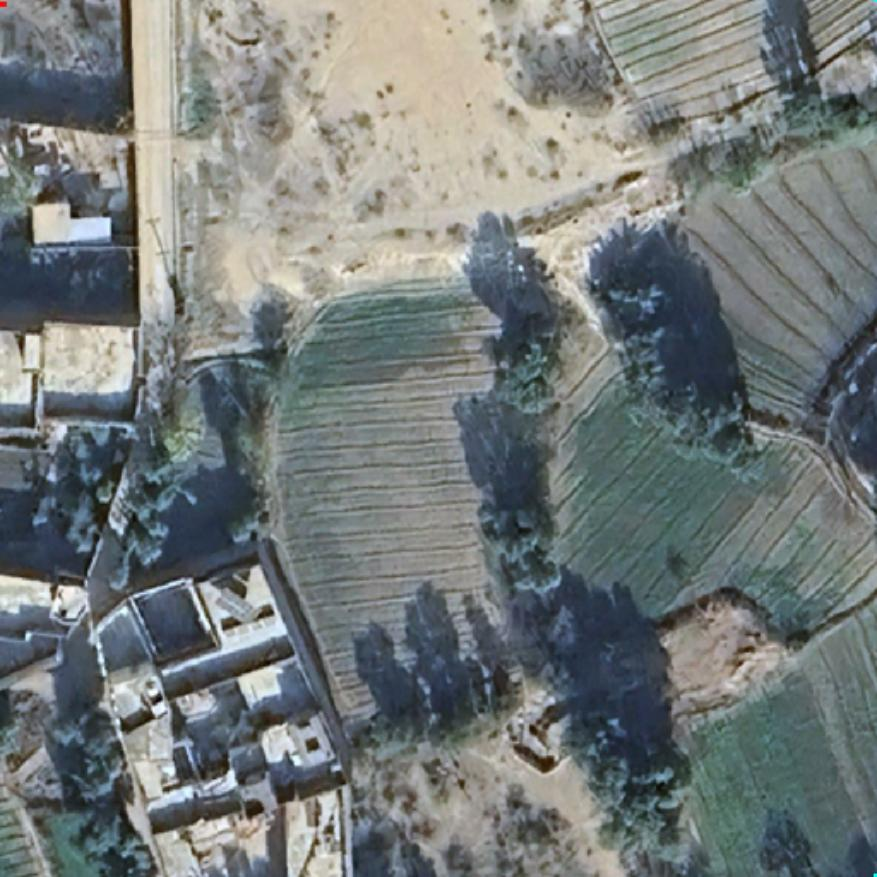Solarpanel: (207, 582, 262, 627)
